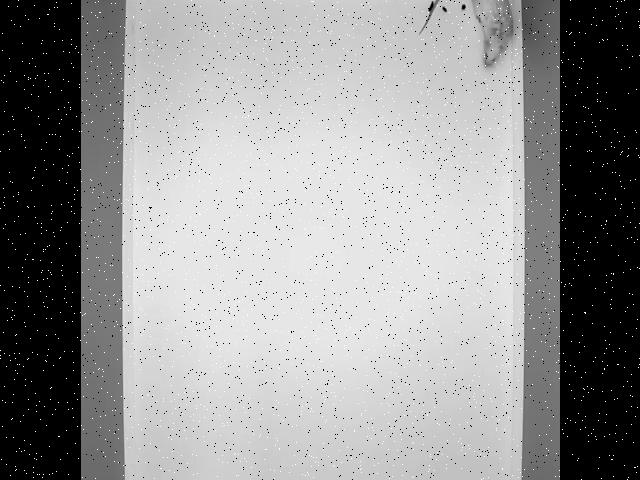Tikus: (415, 0, 516, 72)
